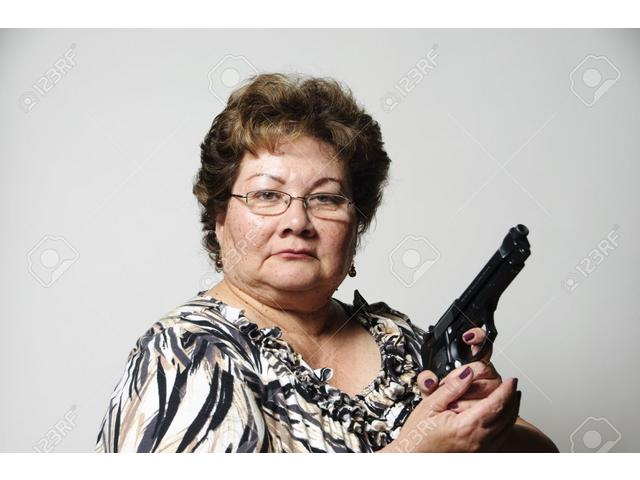pistol: (420, 216, 532, 423)
